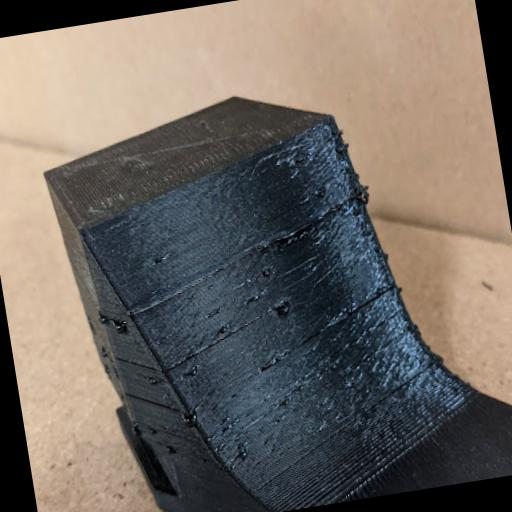blobs: (196, 309, 242, 354), (92, 300, 136, 346), (264, 286, 307, 328), (226, 430, 260, 474), (172, 400, 208, 434), (144, 240, 178, 270), (177, 366, 206, 388), (132, 372, 160, 390)
cracks: (265, 266, 400, 369), (249, 177, 367, 261), (113, 345, 190, 382)
